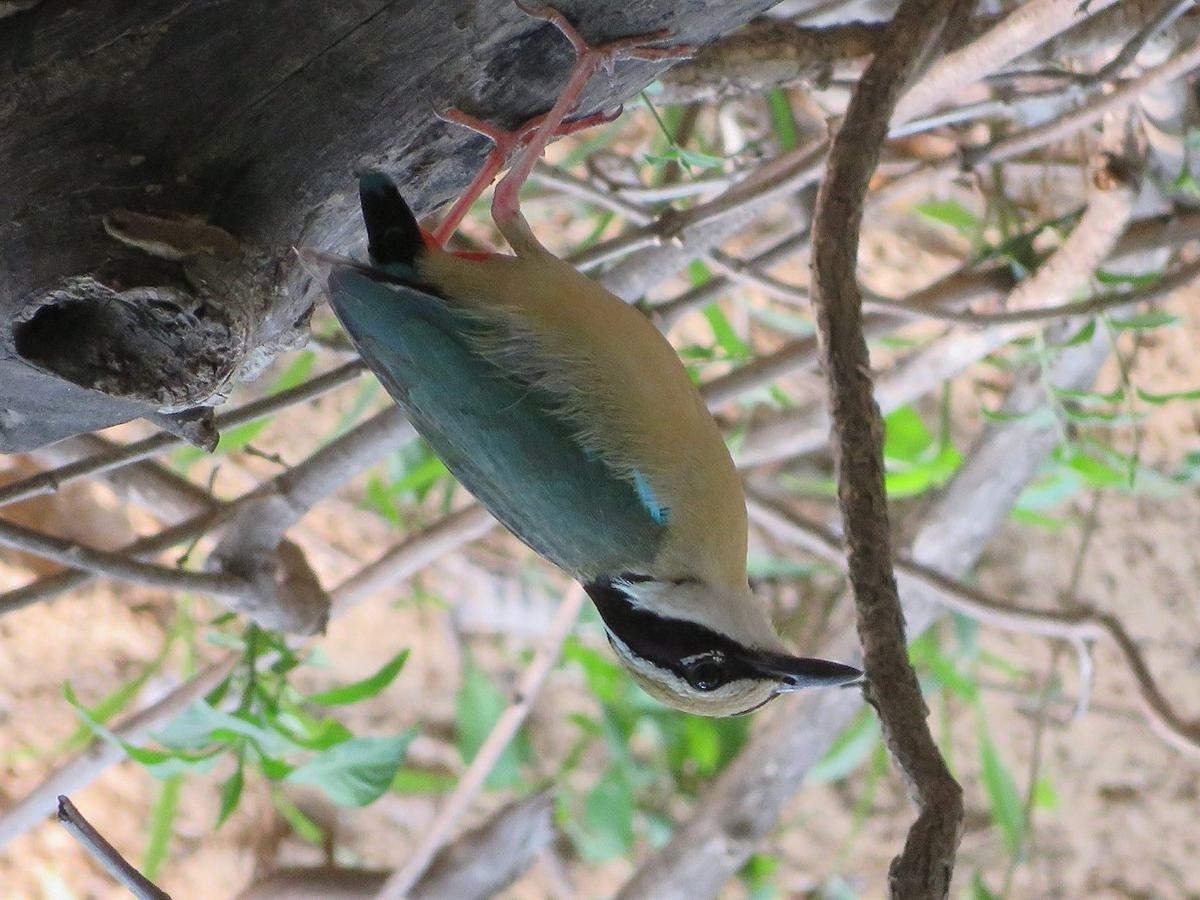pitta: (311, 80, 950, 767)
